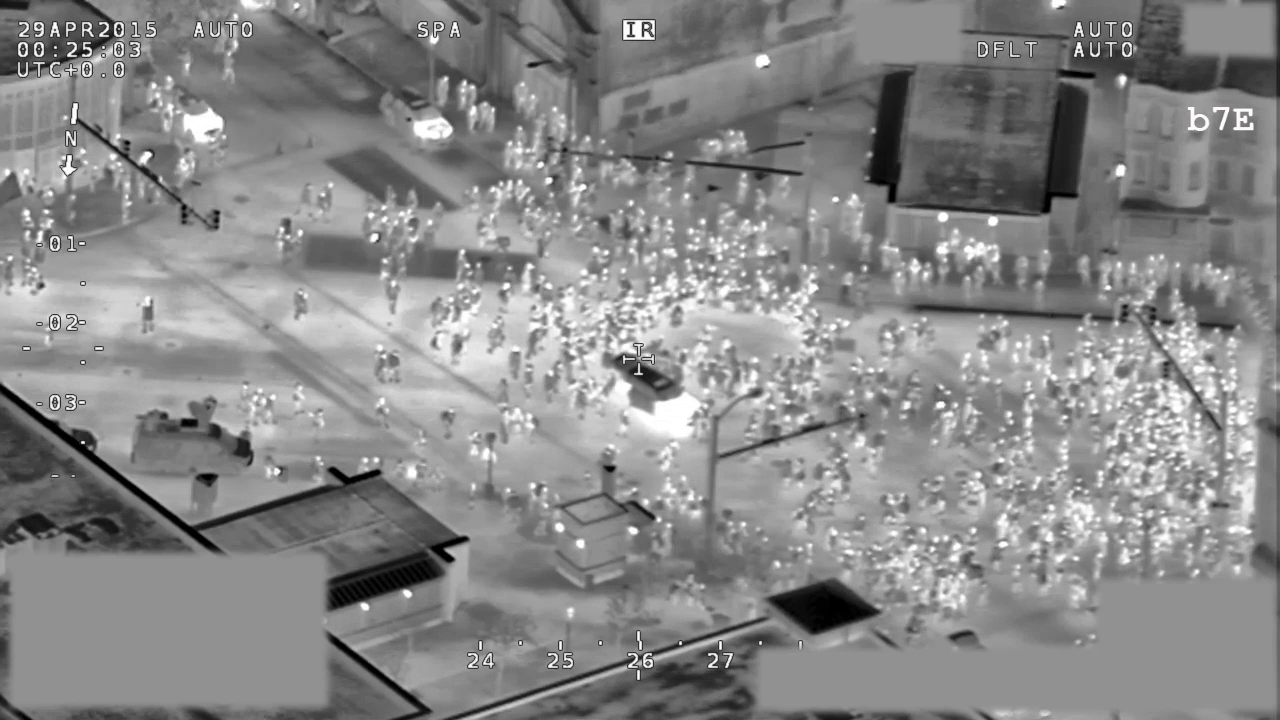vehicle: (124, 394, 257, 482), (600, 342, 706, 444), (372, 77, 458, 152), (152, 78, 230, 151)
